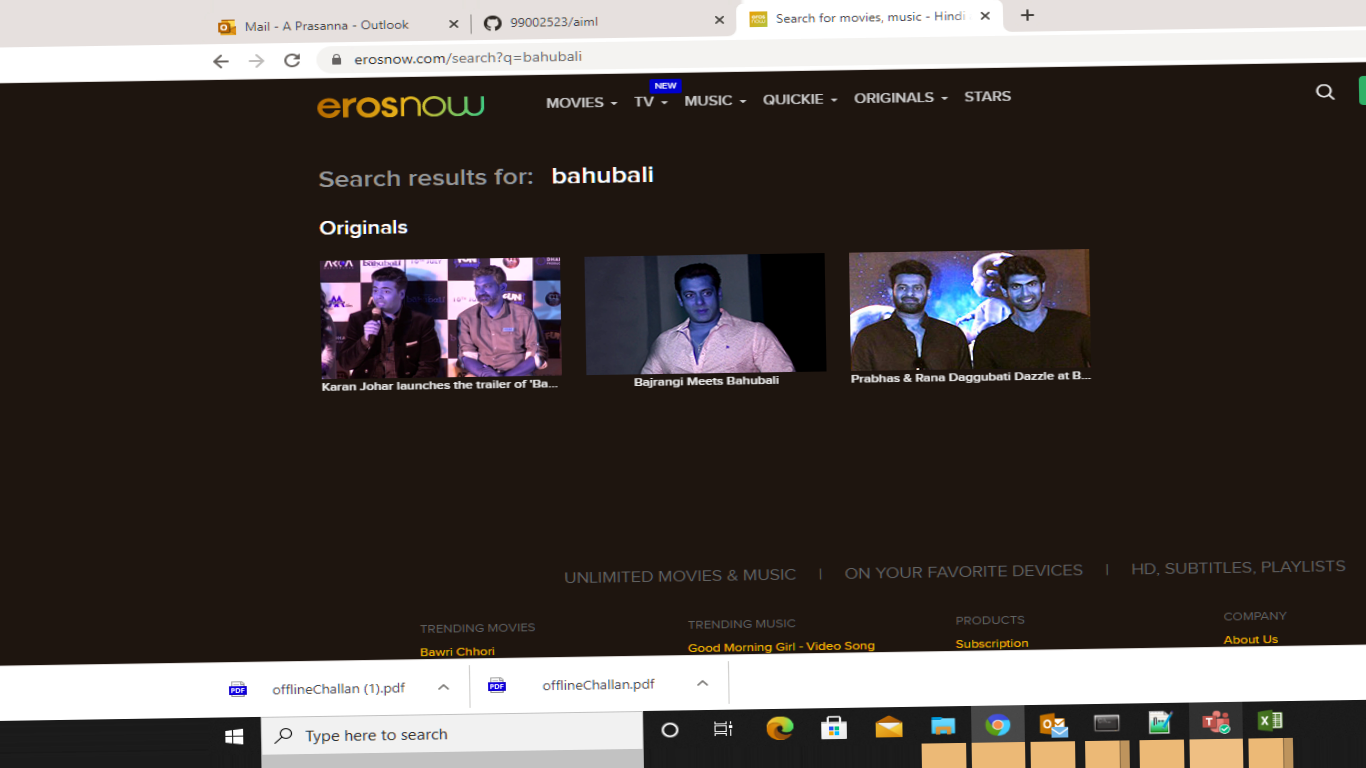resultsfound: (316, 156, 694, 204)
searchicon: (1300, 75, 1340, 114)
